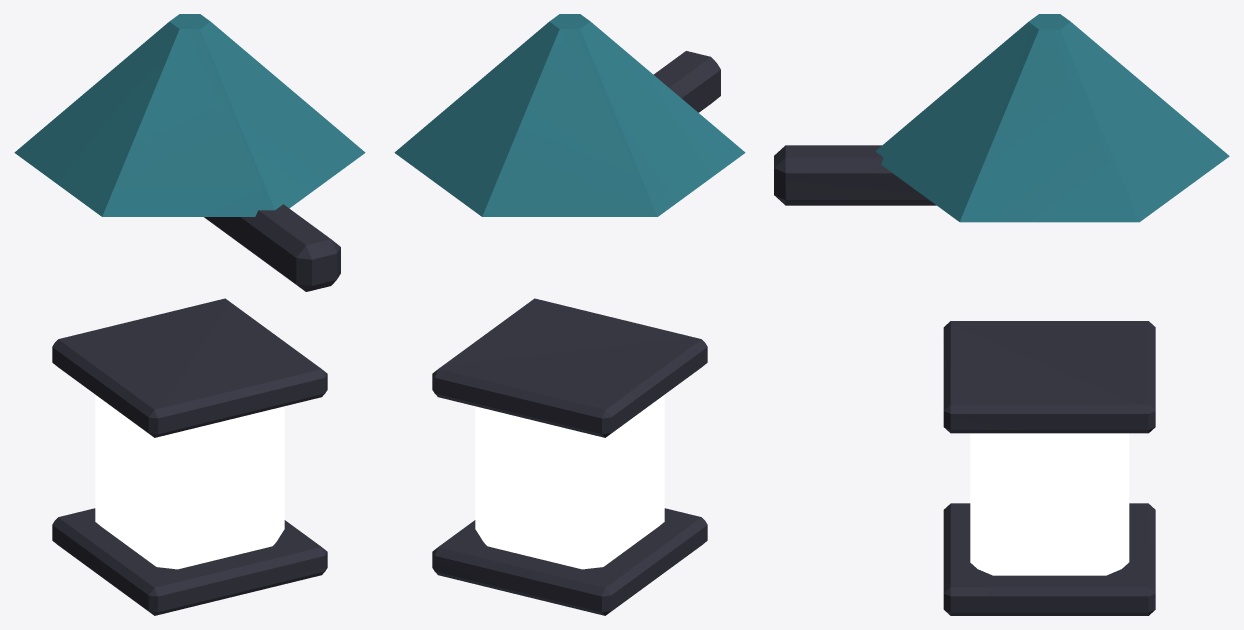
The model's file is wall_lantern.glb.
3 views of the same model, side by side, from view 1: azimuth 30°, elevation 25°; view 2: azimuth 150°, elevation 25°; view 3: azimuth 270°, elevation 25° (orthographic). The views are drawn at different scales.
Parts seen in each view (by area): view 1: WallLantern, Glow; view 2: WallLantern, Glow; view 3: WallLantern, Glow.
Part boxes in pixels (<box>): WallLantern: <box>14,14,365,615</box>; Glow: <box>95,395,284,569</box>; WallLantern: <box>394,14,745,615</box>; Glow: <box>475,395,664,569</box>; WallLantern: <box>774,14,1229,615</box>; Glow: <box>970,433,1129,575</box>.
Bounding box in the file's own units: 0.2944 × 0.575 × 0.43.
